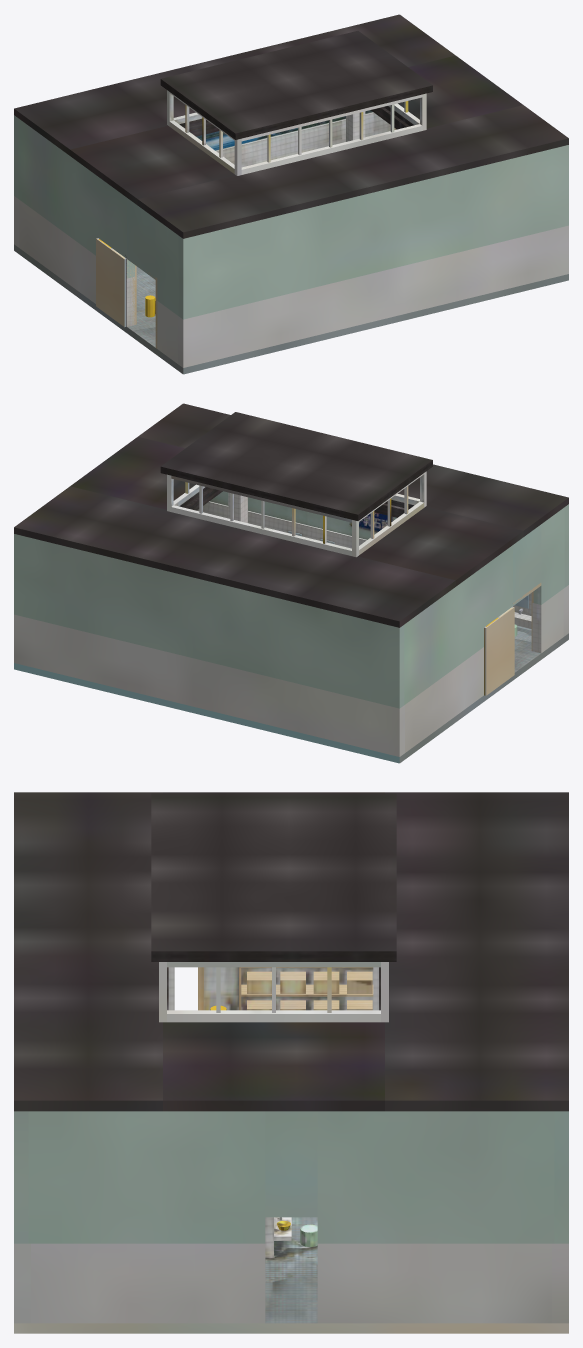
The model's file is hall.glb.
The picture shows the model from 3 angles, top to bottom: view 1: azimuth 30°, elevation 25°; view 2: azimuth 150°, elevation 25°; view 3: azimuth 270°, elevation 25°; orthographic projection. The views are drawn at different scales.
Visible parts, largest first — view 1: sento; view 2: sento; view 3: sento.
Part boxes in pixels (bbox=[...]): sento: bbox=[14, 14, 568, 374]; sento: bbox=[14, 403, 568, 763]; sento: bbox=[14, 792, 568, 1333].
Bounding box in the file's own units: 12.57 × 5.8 × 9.5.
33 materials, 33 textured.
